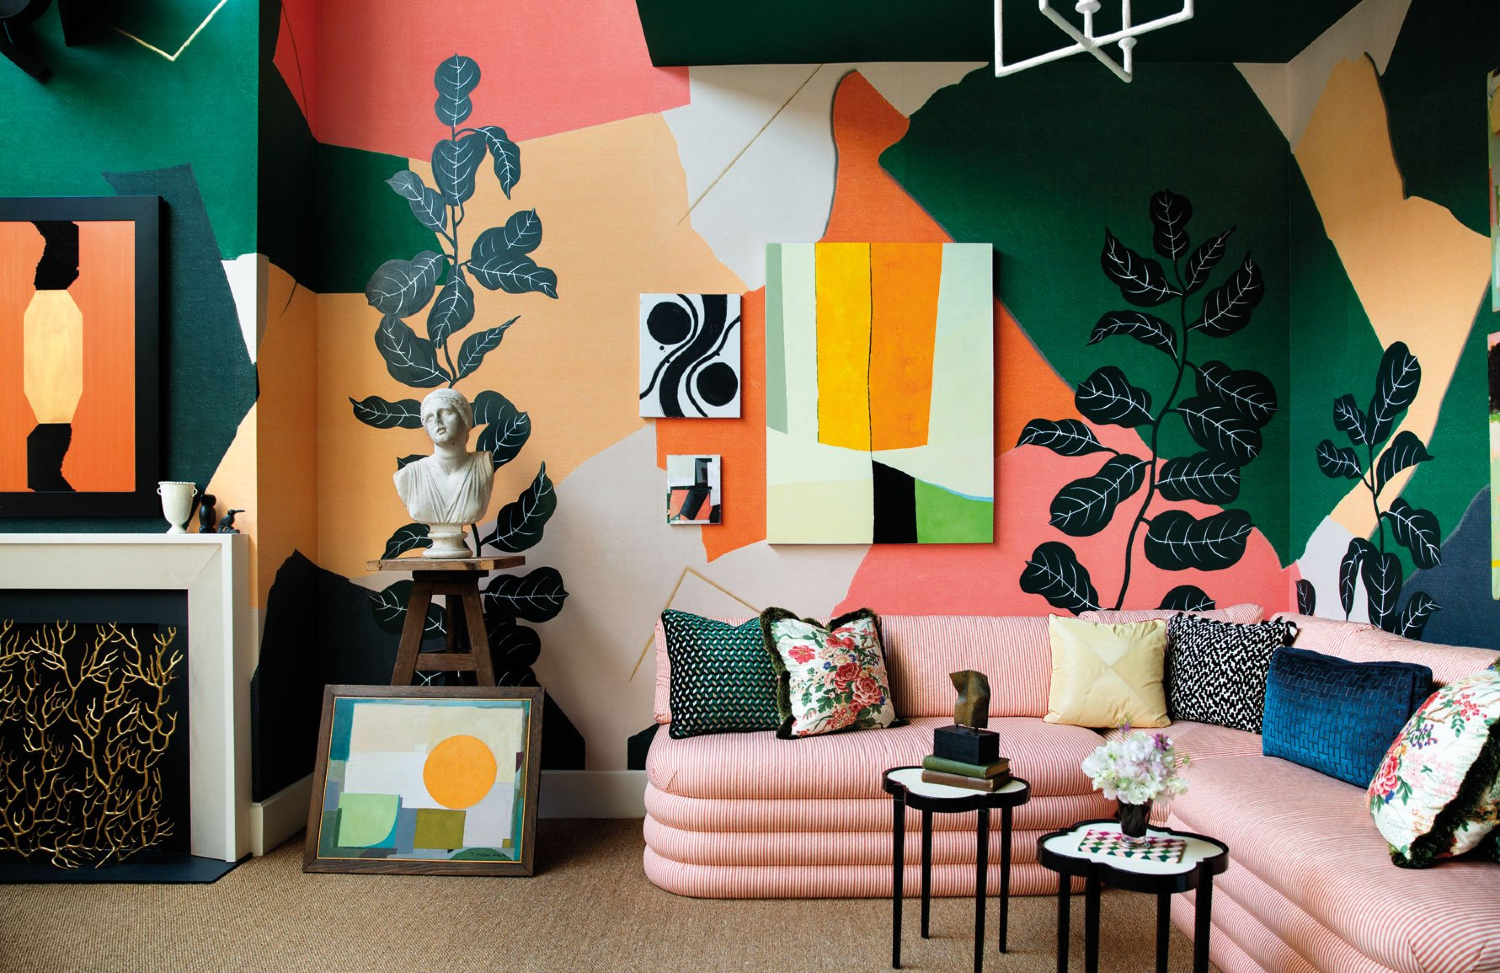biru: (1269, 656, 1394, 774)
coklat: (372, 559, 501, 683), (953, 669, 991, 726)
hitam: (934, 728, 1001, 765), (1117, 800, 1152, 840)
kuning: (1048, 622, 1169, 729)
pink: (652, 726, 1500, 973)
putih: (401, 407, 487, 519), (157, 481, 198, 530)
